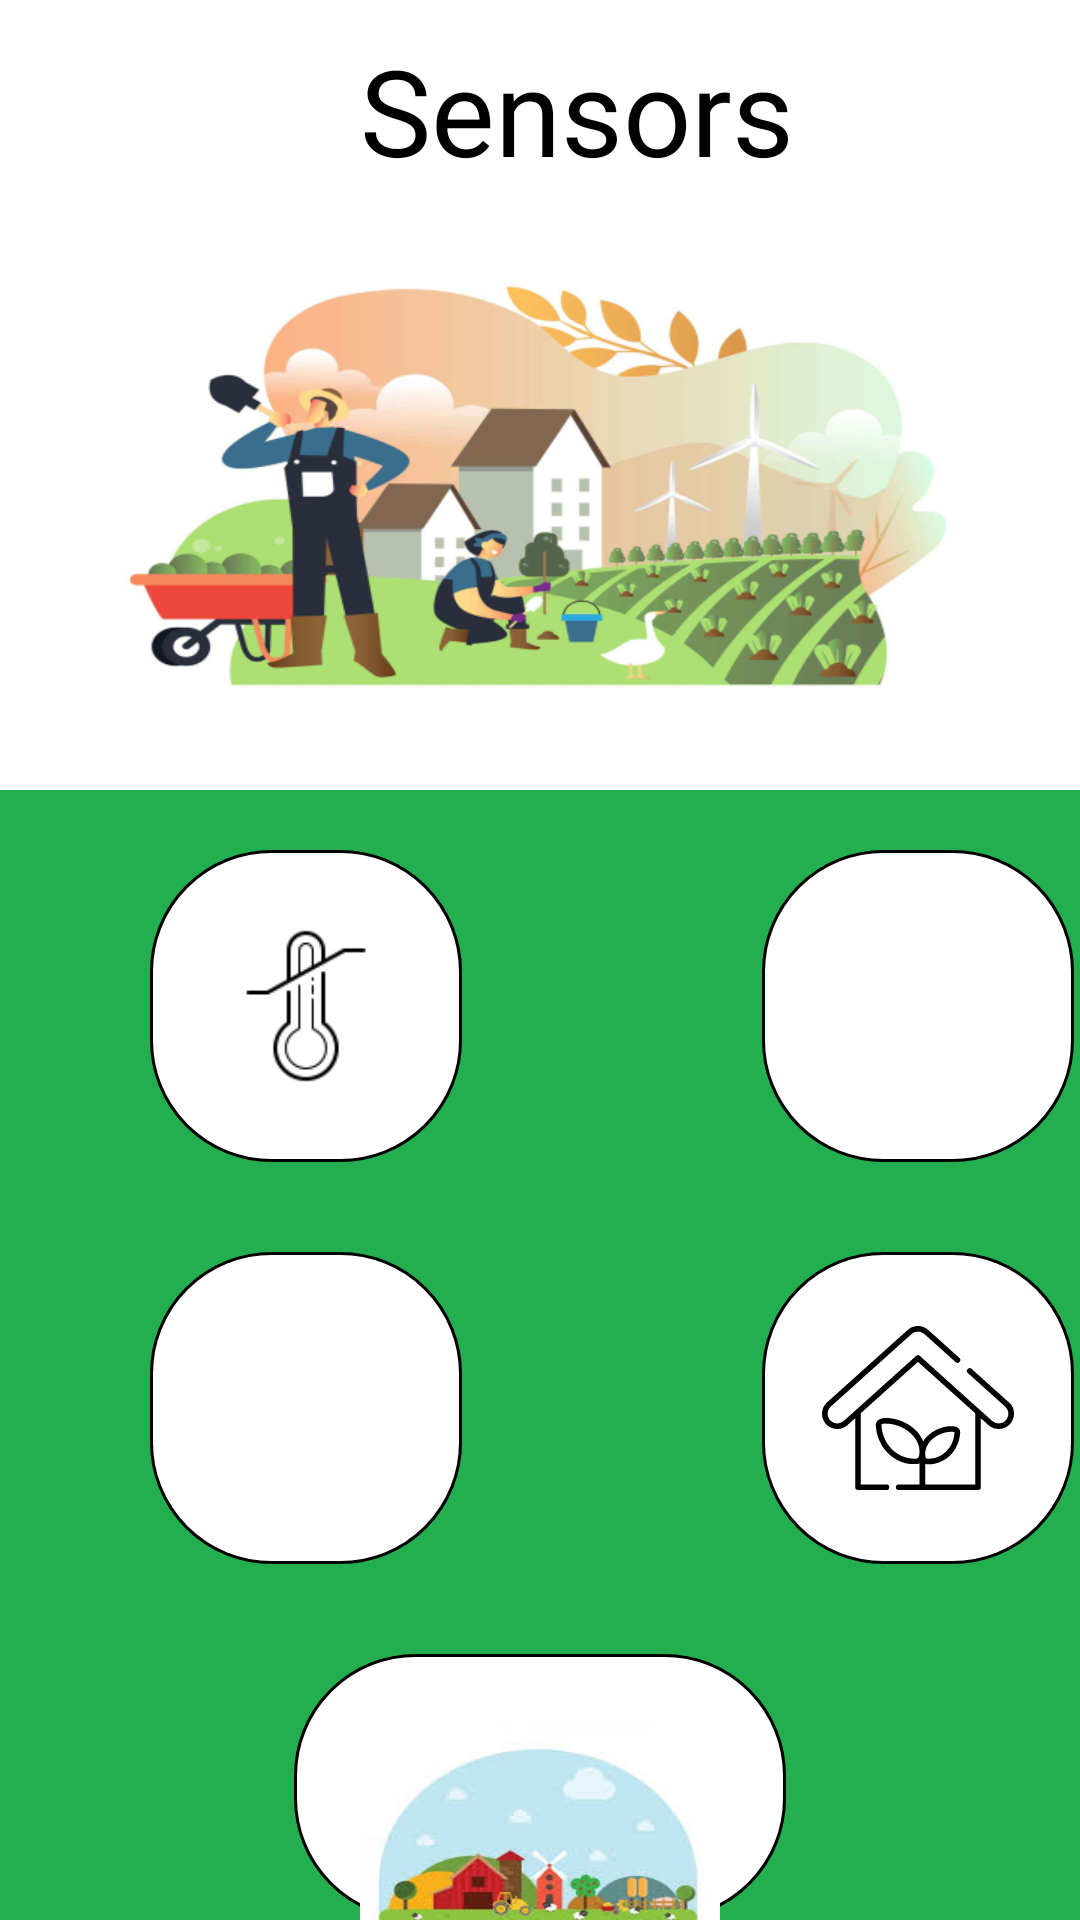

Named icons in this screenshot (1080x1920) and their centers, [x,y]:
house: [918,1408]
temperature sensitive: [306,1006]
